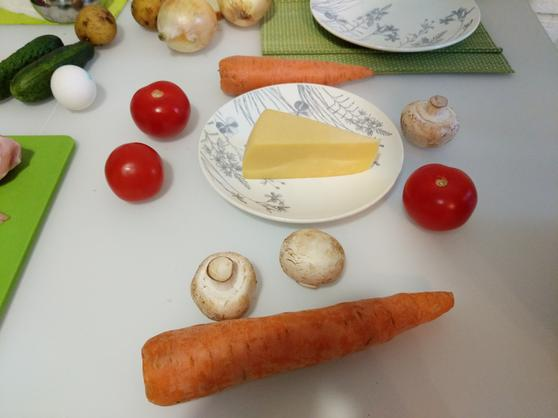carrot: (130, 284, 462, 409), (217, 50, 377, 90)
champignon: (189, 247, 263, 324), (277, 220, 353, 290), (399, 91, 462, 153)
cheese: (239, 108, 384, 184)
cucumber: (12, 41, 99, 102), (1, 29, 65, 84)
egg: (45, 63, 102, 115)
onion: (154, 2, 221, 57), (224, 1, 284, 33)
potato: (68, 3, 121, 48), (131, 1, 166, 30)
tomato: (393, 156, 478, 232), (129, 76, 193, 141), (105, 139, 168, 205)
